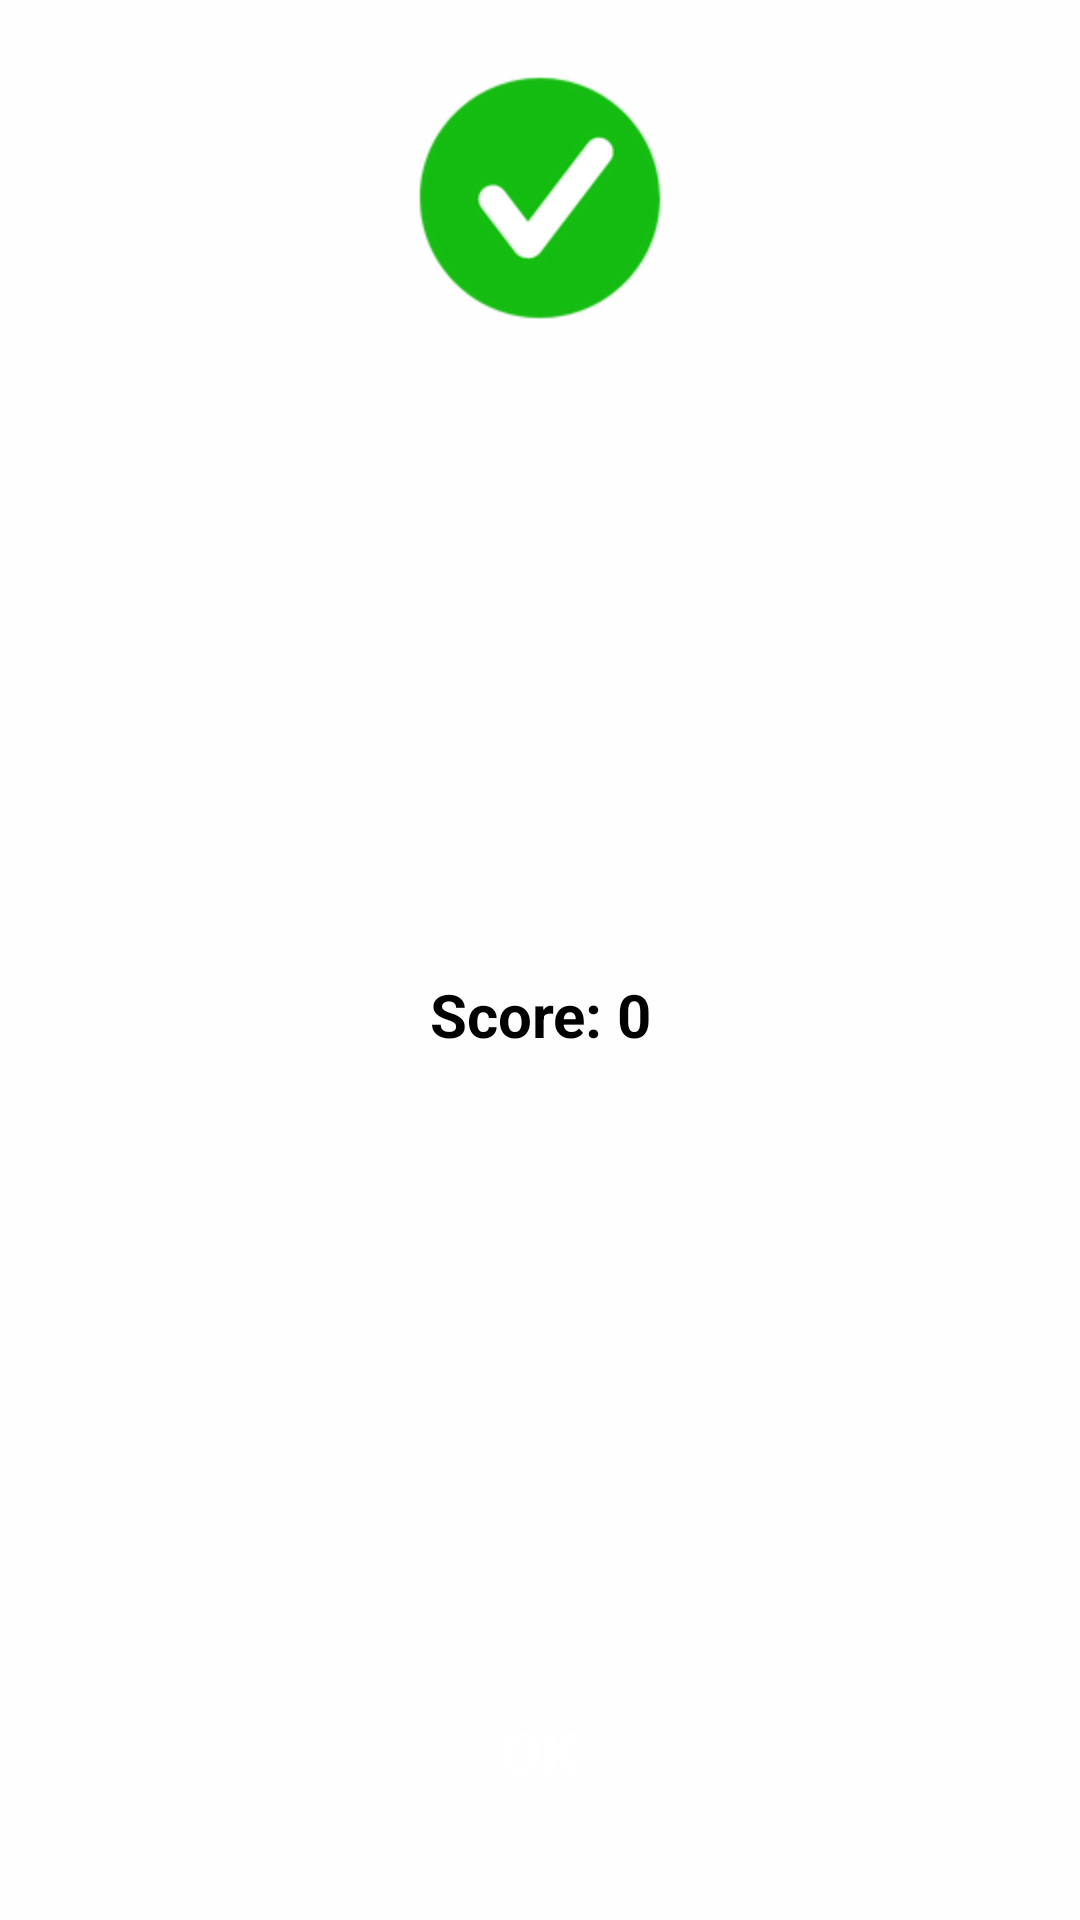

Icons on this 1080 × 1920 Android screen, each with the point to tap as [x,y]:
correct: [540,198]
